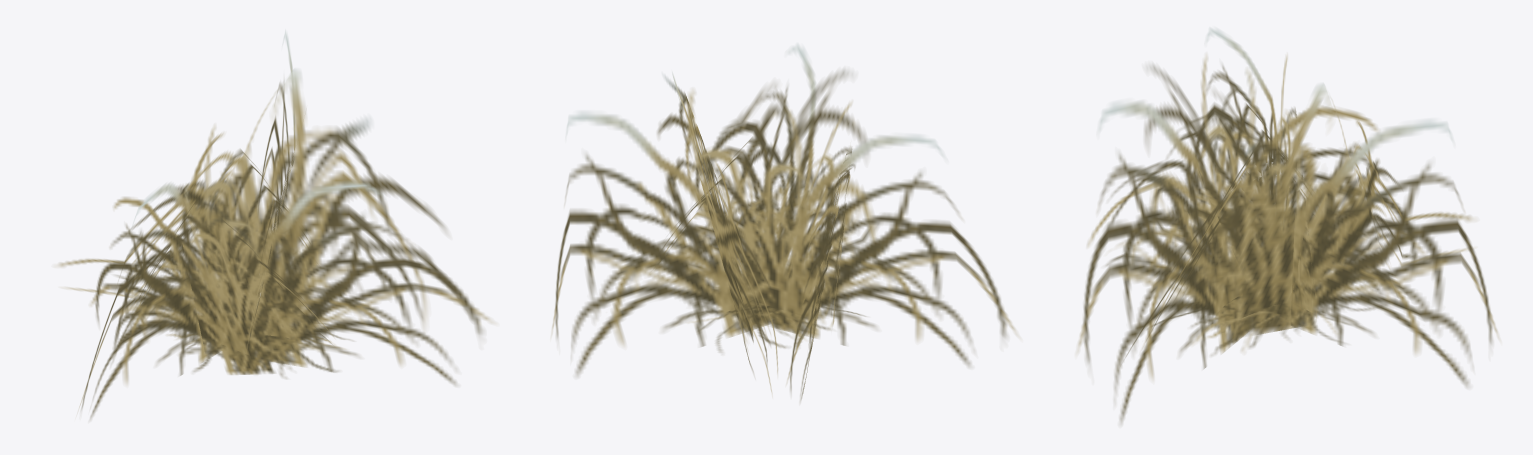
File: ichu_06_nieve.glb
3 renders of one model, left to right at view 1: azimuth 30°, elevation 25°; view 2: azimuth 150°, elevation 25°; view 3: azimuth 270°, elevation 25°, orthographic. The views are drawn at different scales.
Visible parts, largest first — view 1: Ichu; view 2: Ichu; view 3: Ichu.
Boxes of the visible parts, x1,y1,x2,y2 form: Ichu: [57, 30, 493, 419]; Ichu: [552, 43, 1017, 401]; Ichu: [1077, 27, 1498, 423].
Bounding box in the file's own units: 0.3822 × 0.31 × 0.3271.
1 material, 1 textured.
